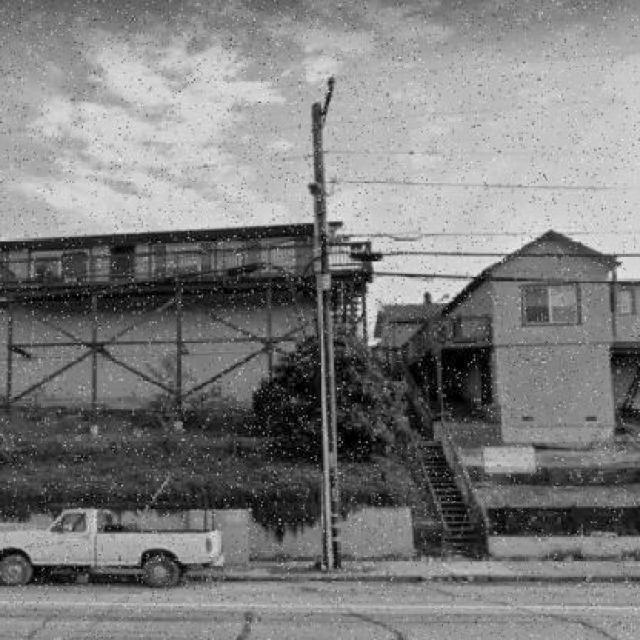pole: (311, 99, 342, 572)
wire: (327, 179, 622, 191), (372, 271, 640, 284), (381, 251, 640, 257), (325, 148, 464, 155)
